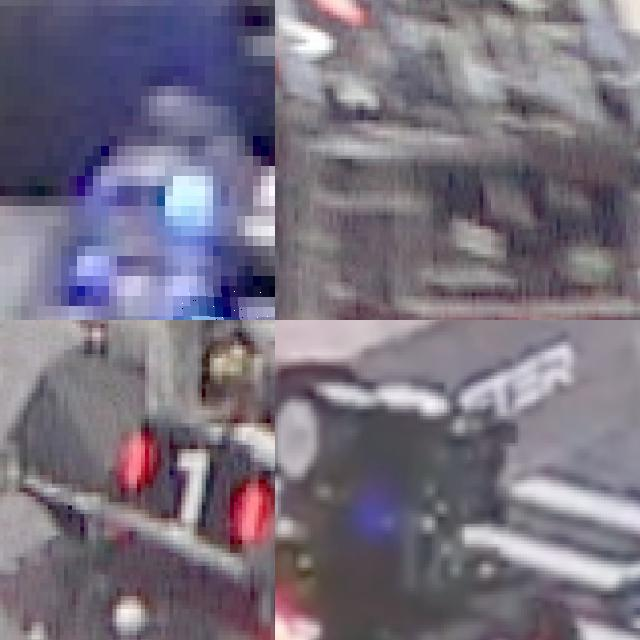R1: (112, 427, 258, 540)
